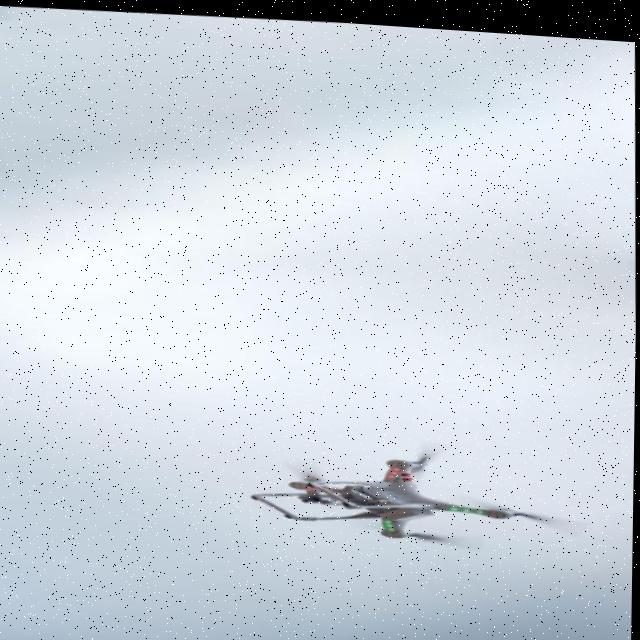drones: (175, 395, 590, 579)
